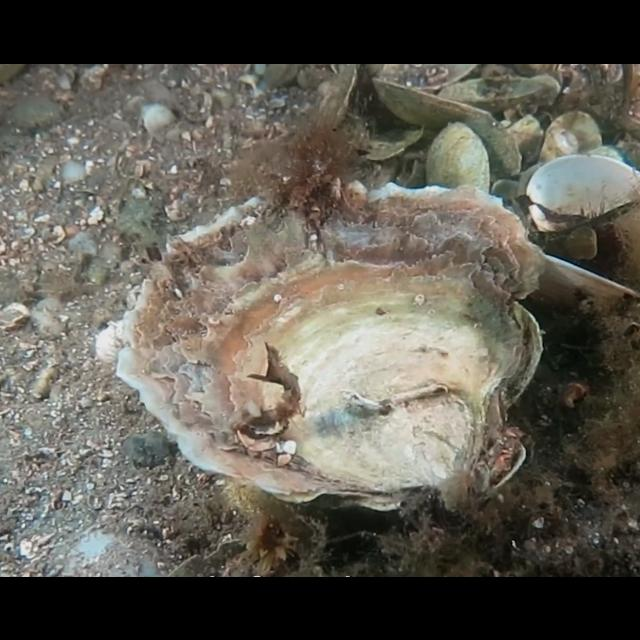Oyster-Closed: (95, 180, 545, 510)
